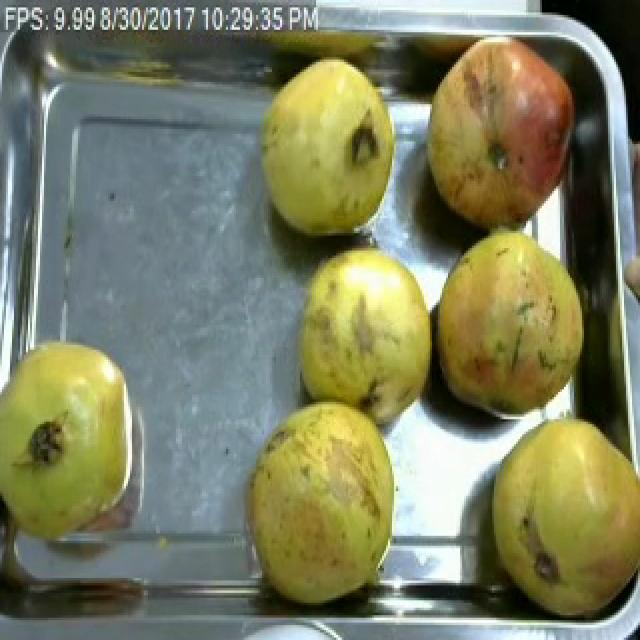fruit: (232, 387, 408, 613), (414, 22, 590, 243), (474, 404, 640, 628), (428, 218, 594, 434), (0, 322, 150, 560), (252, 50, 404, 248), (288, 236, 440, 422)
